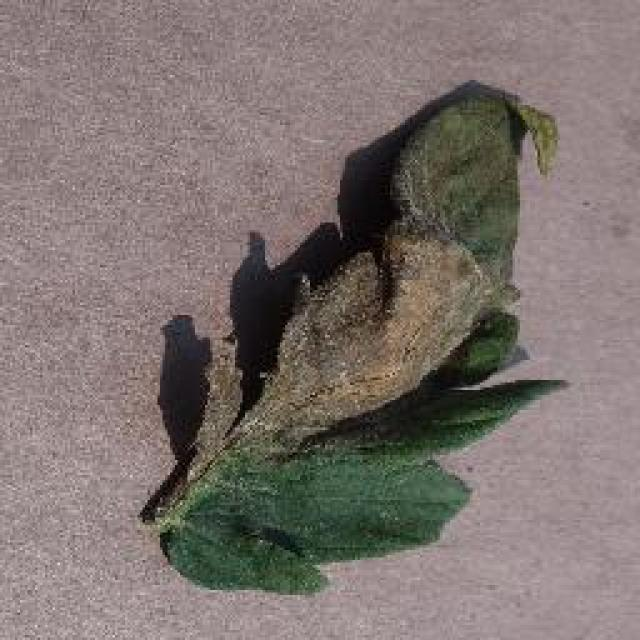Tomato_Late_Blight: (179, 233, 491, 480)
